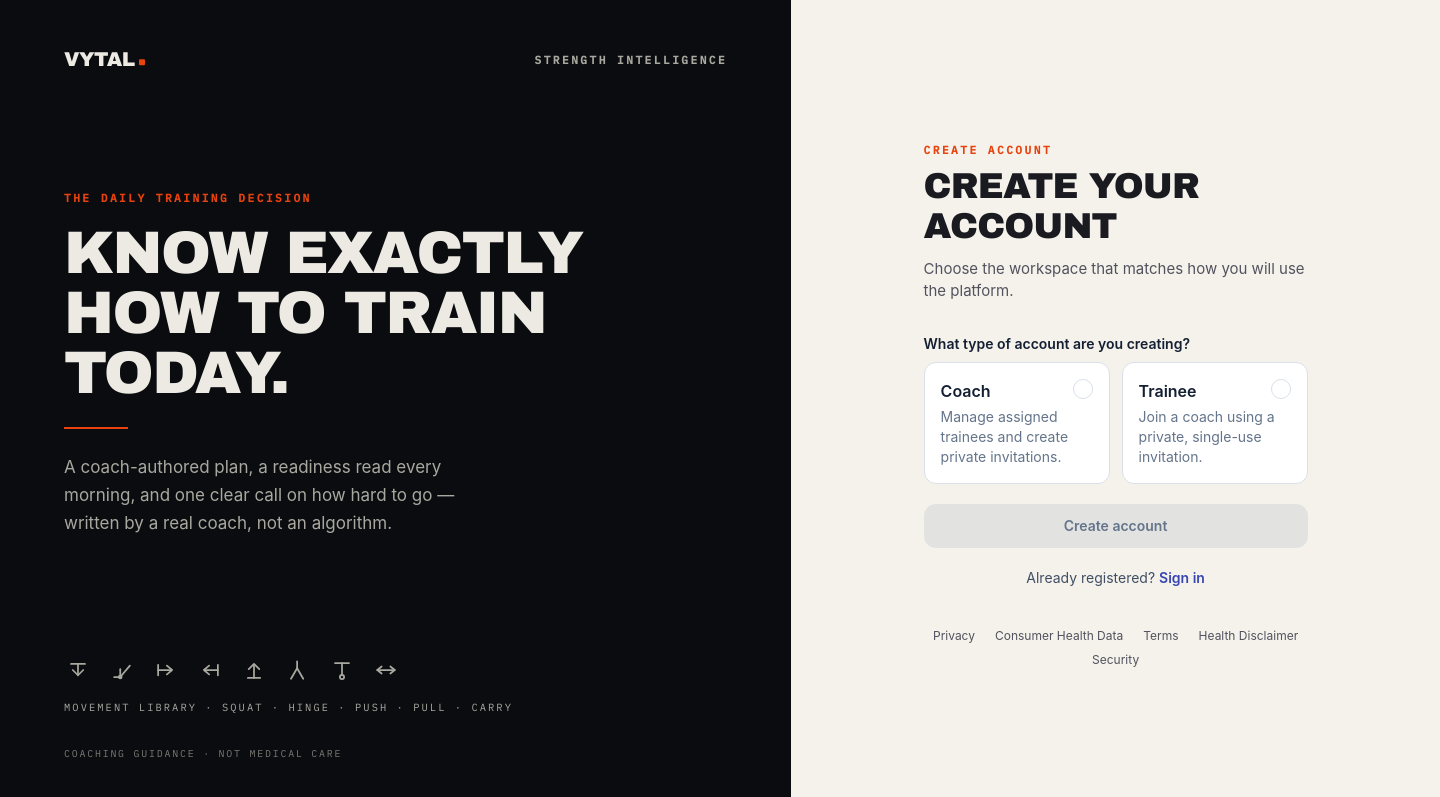
Scenario: role-aware registration › asks for account type and shows only the selected role fields
expect the text "What type of account are you creating?" is shown: met, box [924,334,1190,354]
expect the field labelled "Coach registration code" is not shown: met
Click the button "Coach". click: [1017, 423]
box: [924,362,1110,484]
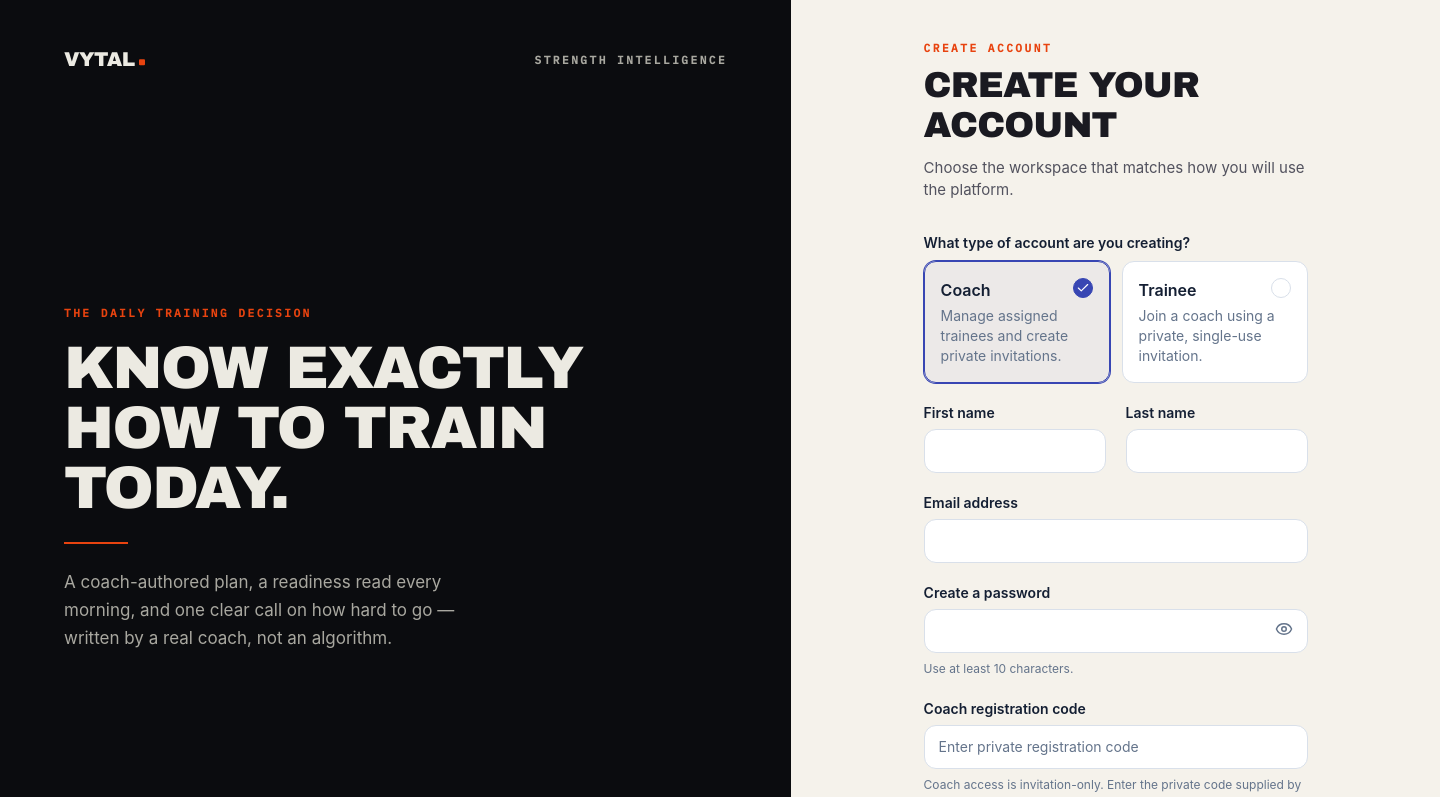
expect the field labelled "Coach invitation code" is not shown: met
expect the password field labelled "Coach registration code" is shown: met, box [924,725,1308,769]
Click the button "Trainee Join a coach using a private, single-use invitation.". click: [1215, 322]
box: [1122,261,1308,383]
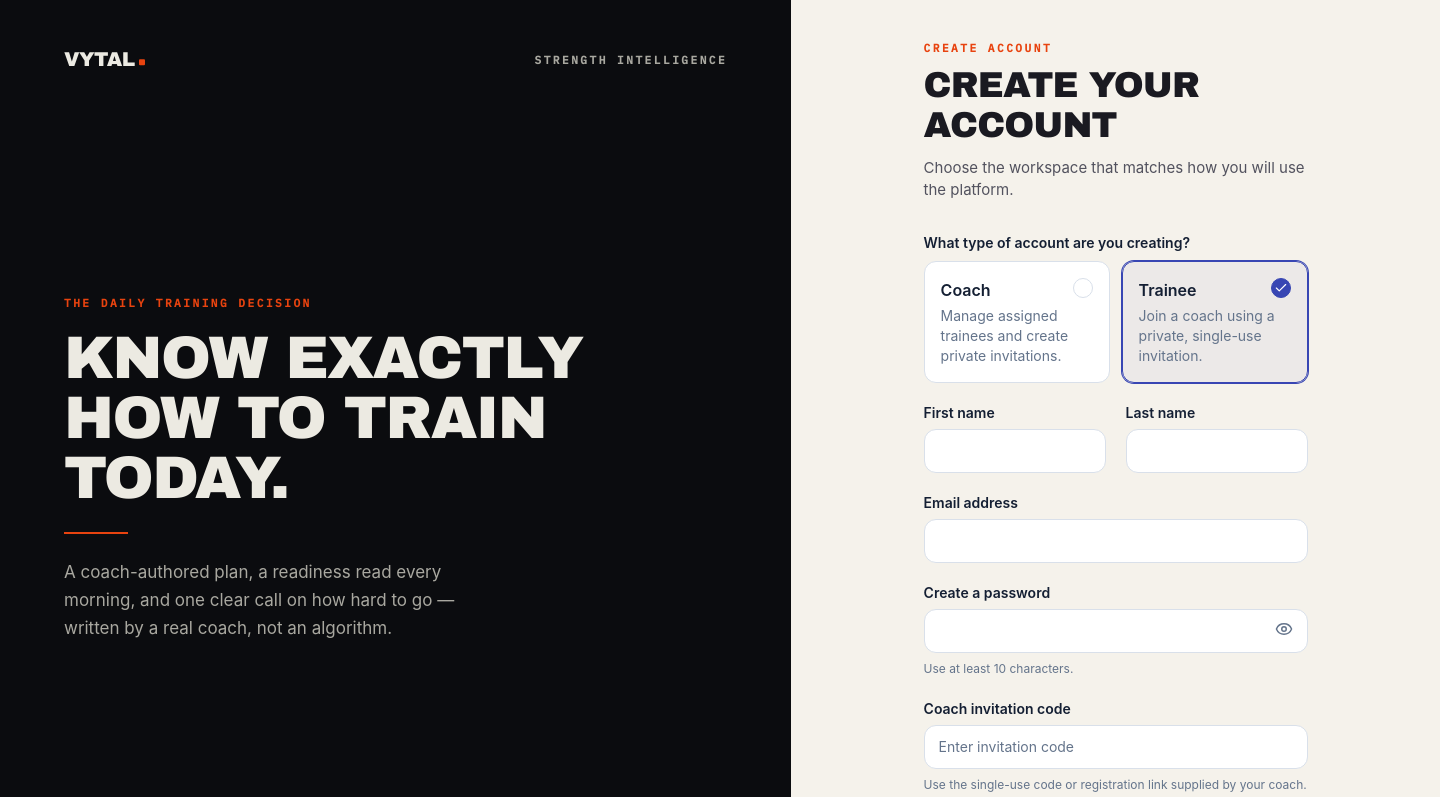
expect the field labelled "Coach invitation code" is shown: met, box [924,725,1308,769]
expect the text labelled "Coach registration code" is gone: met
